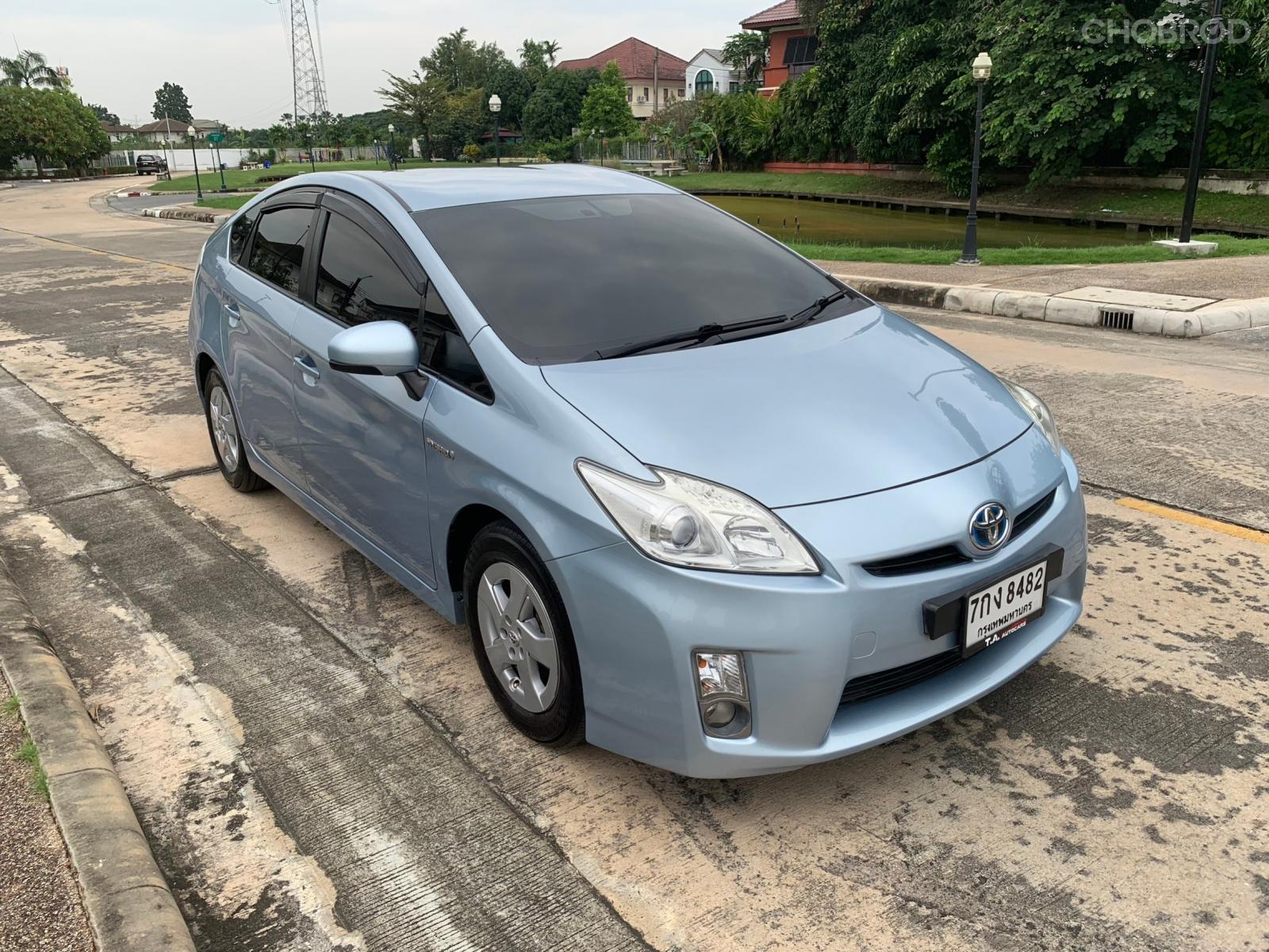license-plate: (956, 549, 1054, 657)
